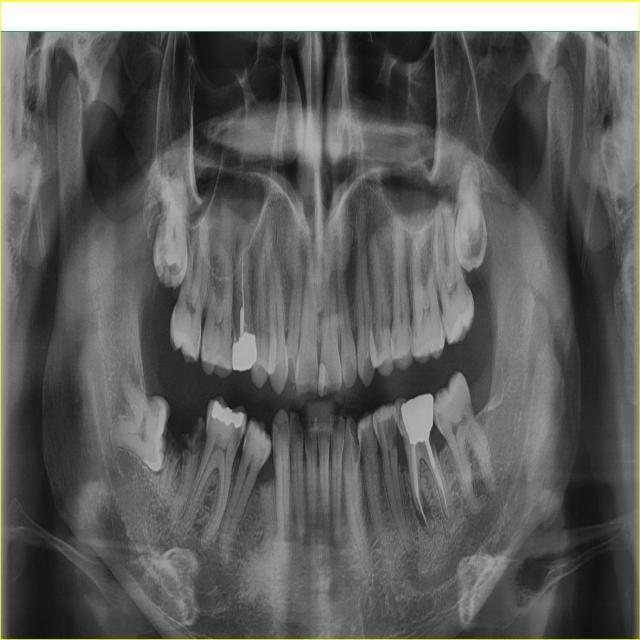71: (424, 437, 437, 470), (240, 306, 244, 335)
74: (407, 443, 429, 531), (431, 465, 453, 511), (240, 255, 244, 308)
NucleOSS Implant: (398, 391, 441, 445), (207, 399, 247, 431), (232, 331, 257, 371)
Sterngold Implant: (165, 413, 209, 467), (385, 406, 397, 451), (231, 419, 248, 447), (348, 430, 361, 463), (358, 427, 370, 458), (242, 424, 255, 452), (428, 432, 438, 459), (433, 409, 445, 430), (409, 322, 420, 343), (418, 440, 428, 460), (389, 329, 398, 350), (401, 429, 409, 448), (406, 323, 412, 341), (314, 367, 318, 387)
Straumann Implant: (318, 364, 330, 396)
